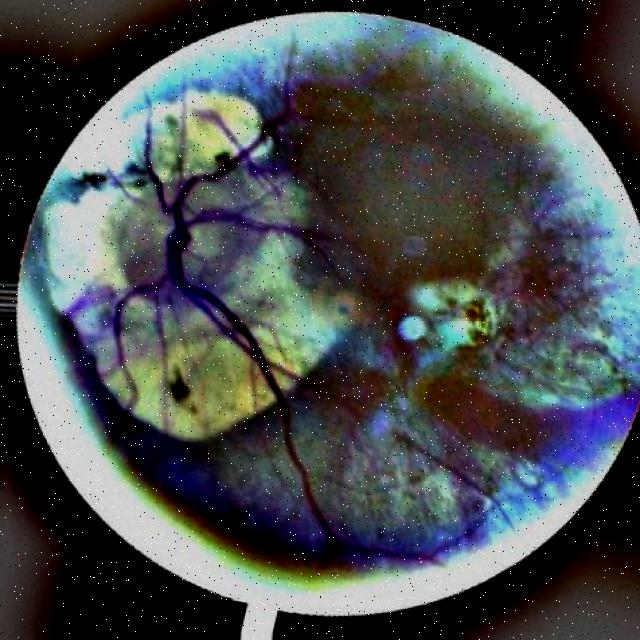Macula: (309, 276, 421, 339)
Nerves: (166, 226, 336, 541), (176, 45, 362, 209), (190, 209, 377, 279)
Optic Disk: (115, 165, 267, 314)
